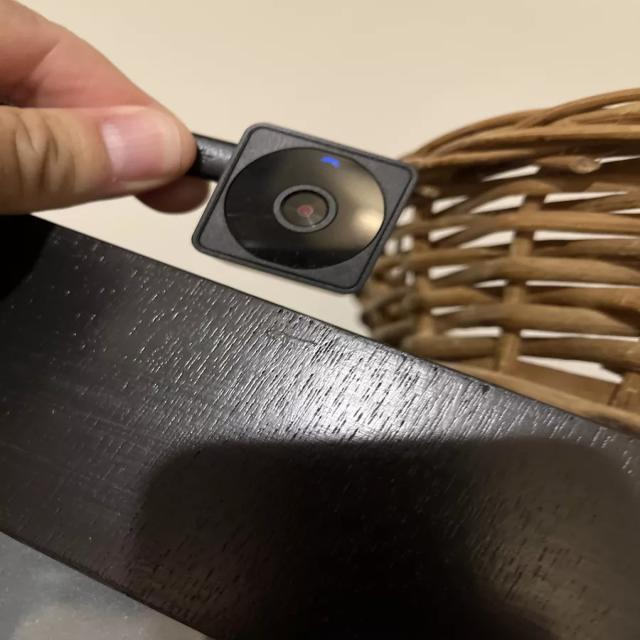hidden camera: (273, 184, 338, 235)
